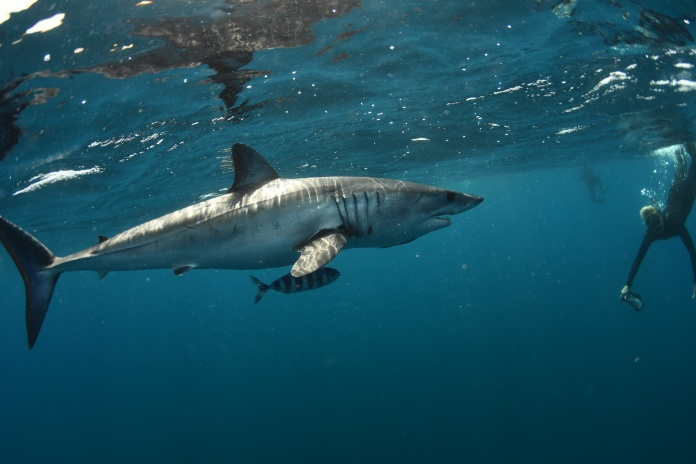Mako: (1, 140, 496, 362)
